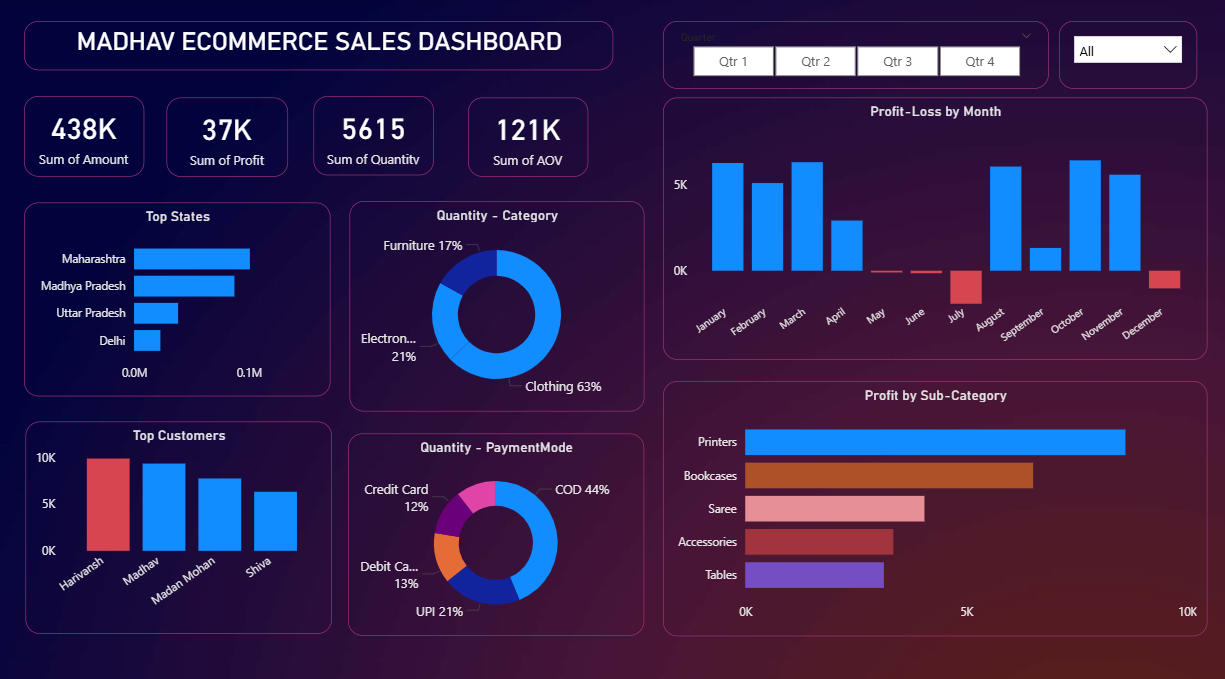

The dashboard page shown, as its layout file describes it:
{"tool":"powerbi","page":{"name":"Page 1","canvas":[1280,720],"ordinal":0},"visuals":[{"type":"columnChart","title":" Profit-Loss by Month","fields":{"Category":["Orders for powerbi.Order Date.Variation.Date Hierarchy.Month"],"Y":["Sum(Details for powerbi.Profit)"]},"box":[690.8,104.7,567.4,273.5],"z":0},{"type":"barChart","title":"Profit by Sub-Category","fields":{"Category":["Details for powerbi.Sub-Category"],"Y":["Sum(Details for powerbi.Profit)"]},"box":[690.8,400.1,567.4,265.7],"z":1000},{"type":"donutChart","title":"Quantity - Category","fields":{"Category":["Details for powerbi.Category"],"Y":["Sum(Details for powerbi.Quantity)"]},"box":[364.9,212.3,307,219.3],"z":2000},{"type":"donutChart","title":"Quantity - PaymentMode","fields":{"Category":["Details for powerbi.PaymentMode"],"Y":["Sum(Details for powerbi.Quantity)"]},"box":[363.2,454.4,308.8,210.5],"z":3000},{"type":"card","fields":{"Values":["Sum(Details for powerbi.Amount)"]},"box":[25,102.5,125,83.8],"z":4000},{"type":"card","fields":{"Values":["Sum(Details for powerbi.Profit)"]},"box":[173.5,104.7,126.6,82.8],"z":5000},{"type":"card","fields":{"Values":["Sum(Details for powerbi.Quantity)"]},"box":[326.7,103.2,125,82.8],"z":6000},{"type":"card","fields":{"Values":["Sum(Details for powerbi.AOV)"]},"box":[487.7,104.7,125,82.8],"z":7000},{"type":"barChart","title":"Top States","fields":{"Y":["Sum(Details for powerbi.Amount)"],"Category":["Orders for powerbi.State"]},"box":[24.6,213.5,319.4,202.2],"z":8000},{"type":"columnChart","title":"Top Customers","fields":{"Category":["Orders for powerbi.Customer Name"],"Y":["Sum(Details for powerbi.Amount)"]},"box":[26.5,442.2,319.4,221.1],"z":9000},{"type":"textbox","title":" MADHAV ECOMMERCE SALES DASHBOARD","box":[25,32.8,645.5,43.8],"z":10000},{"type":"slicer","fields":{"Values":["Orders for powerbi.Order Date.Variation.Date Hierarchy.Quarter"]},"box":[690.8,25,401.7,70.3],"z":11000},{"type":"slicer","fields":{"Values":["Orders for powerbi.State"]},"box":[1103.5,25,143.8,70.3],"z":12000}]}

Visuals, with their boxes in screenshot pixels (x1, y1, x2, y2), scaled from the page's 1280x720 canvas onto the 1225x679 screenshot:
" Profit-Loss by Month" columnChart: select_region(661, 99, 1204, 357)
"Profit by Sub-Category" barChart: select_region(661, 377, 1204, 628)
"Quantity - Category" donutChart: select_region(349, 200, 643, 407)
"Quantity - PaymentMode" donutChart: select_region(348, 429, 643, 627)
card - Sum(Details for powerbi.Amount): select_region(24, 97, 144, 176)
card - Sum(Details for powerbi.Profit): select_region(166, 99, 287, 177)
card - Sum(Details for powerbi.Quantity): select_region(313, 97, 432, 175)
card - Sum(Details for powerbi.AOV): select_region(467, 99, 586, 177)
"Top States" barChart: select_region(24, 201, 329, 392)
"Top Customers" columnChart: select_region(25, 417, 331, 626)
" MADHAV ECOMMERCE SALES DASHBOARD" textbox: select_region(24, 31, 642, 72)
slicer - Orders for powerbi.Order Date.Variation.Date Hierarchy.Quarter: select_region(661, 24, 1046, 90)
slicer - Orders for powerbi.State: select_region(1056, 24, 1194, 90)
